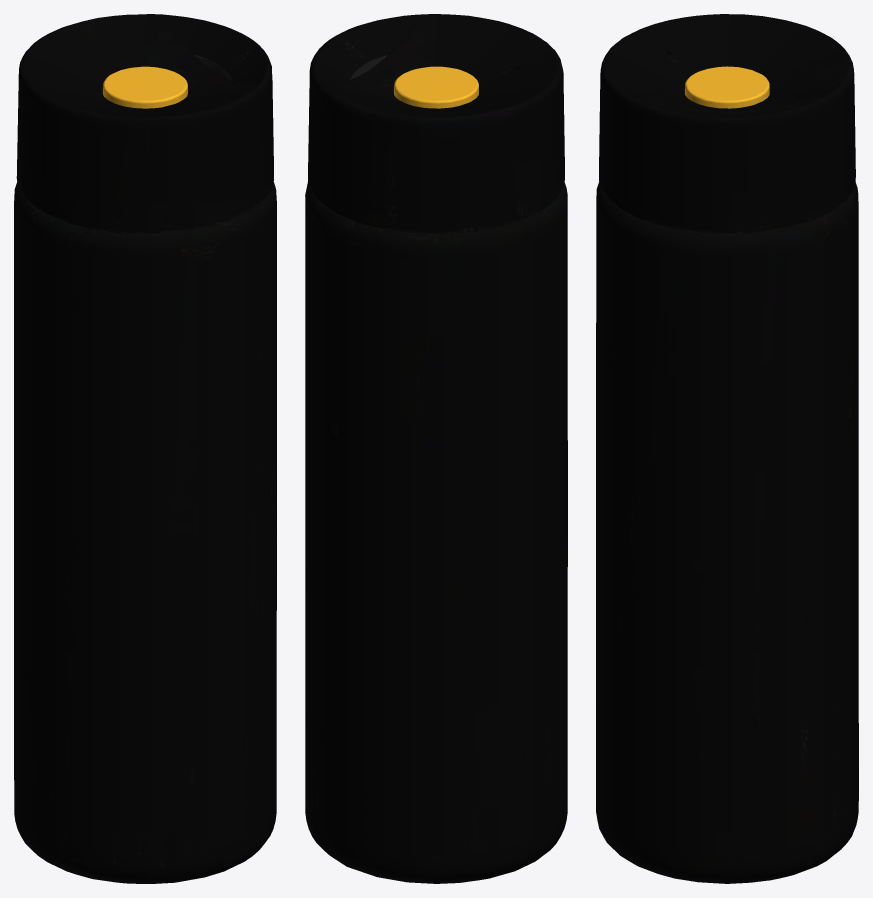
File: bottle.glb
3 renders of one model, left to right at view 1: azimuth 30°, elevation 25°; view 2: azimuth 150°, elevation 25°; view 3: azimuth 270°, elevation 25°, orthographic.
Parts seen in each view (by area): view 1: model; view 2: model; view 3: model.
Boxes of the visible parts, left/top/right/bottom form: model: left=14, top=14, right=276, bottom=883; model: left=305, top=14, right=567, bottom=883; model: left=596, top=14, right=858, bottom=883.
Bounding box in the file's own units: 0.065 × 0.2108 × 0.065.
Materials: 1 (1 with a texture image).
